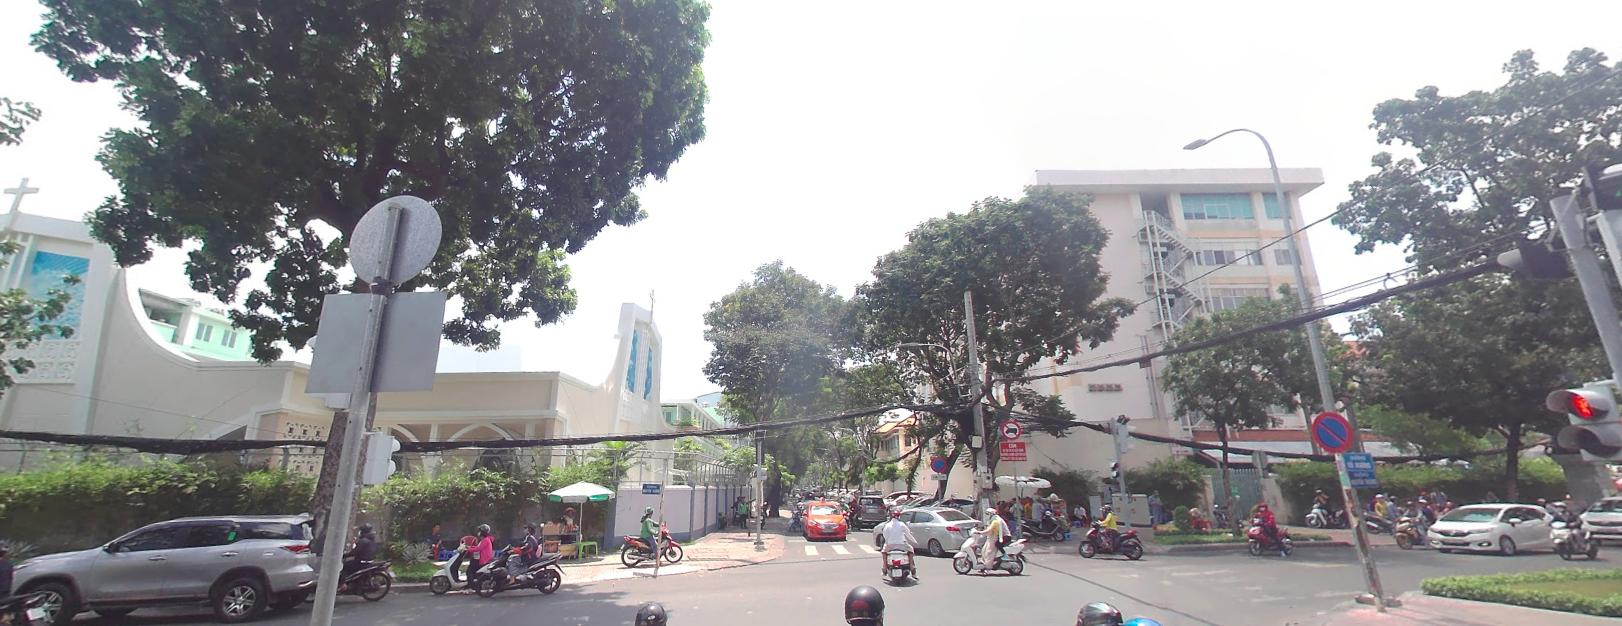Cam con lai: (1000, 419, 1020, 438)
Cam dung va do: (1311, 411, 1352, 451), (931, 455, 947, 470)
